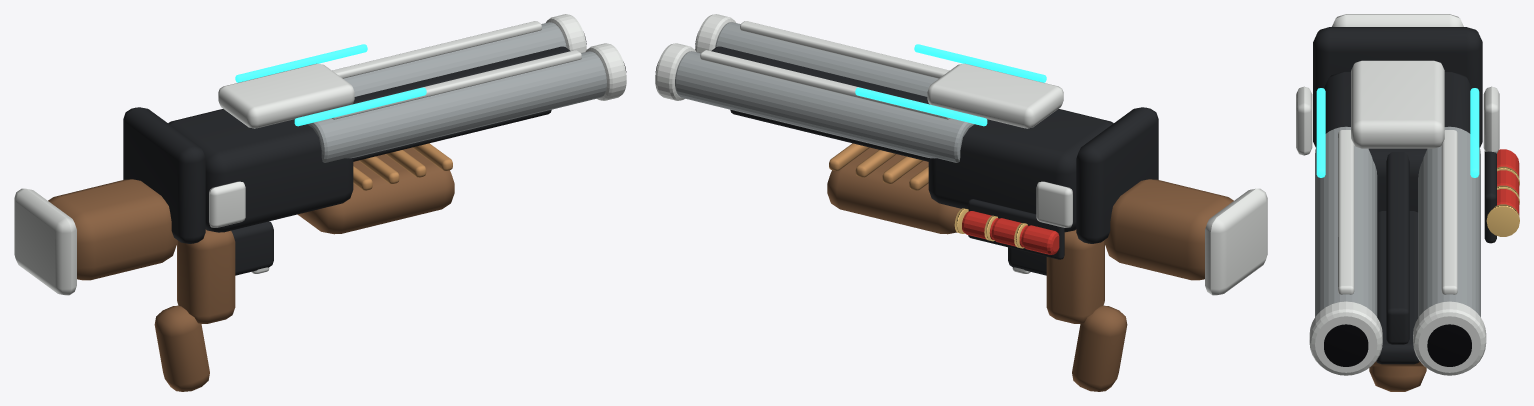
Rendered from lg_duel_shotgun_sg.fbx.
The picture shows the model from 3 angles, left to right: view 1: azimuth 30°, elevation 25°; view 2: azimuth 150°, elevation 25°; view 3: azimuth 270°, elevation 25°; orthographic projection. The views are drawn at different scales.
Parts seen in each view (by area): view 1: left_long_barrel_outer_tube, receiver_heavy_beveled_block, short_rear_stock_stub, rear_dark_breech_face, wide_walnut_foregrip, top_locking_rib, rear_butt_plate_metal, angled_dark_walnut_pistol_grip_upper, right_long_barrel_outer_tube, angled_dark_walnut_pistol_grip_lower, right_flat_top_highlight_strip, left_flat_top_highlight_strip (+11 smaller); view 2: right_long_barrel_outer_tube, receiver_heavy_beveled_block, short_rear_stock_stub, rear_dark_breech_face, top_locking_rib, wide_walnut_foregrip, rear_butt_plate_metal, left_long_barrel_outer_tube, angled_dark_walnut_pistol_grip_upper, angled_dark_walnut_pistol_grip_lower, left_flat_top_highlight_strip, right_flat_top_highlight_strip (+15 smaller); view 3: top_locking_rib, right_long_barrel_outer_tube, left_long_barrel_outer_tube, rear_dark_breech_face, center_barrel_spacer_dark_spine, receiver_heavy_beveled_block, underbarrel_shadow_rib, right_bright_muzzle_lip, left_bright_muzzle_lip, right_flat_top_highlight_strip, left_flat_top_highlight_strip, rear_butt_plate_metal (+12 smaller).
Boxes of the visible parts, left/top/right/bottom form: left_long_barrel_outer_tube: left=307, top=51, right=606, bottom=162; receiver_heavy_beveled_block: left=168, top=109, right=353, bottom=232; short_rear_stock_stub: left=48, top=179, right=177, bottom=280; rear_dark_breech_face: left=123, top=107, right=205, bottom=243; wide_walnut_foregrip: left=297, top=147, right=454, bottom=234; top_locking_rib: left=218, top=63, right=354, bottom=128; rear_butt_plate_metal: left=14, top=188, right=76, bottom=295; angled_dark_walnut_pistol_grip_upper: left=177, top=229, right=235, bottom=323; right_long_barrel_outer_tube: left=343, top=22, right=566, bottom=96; angled_dark_walnut_pistol_grip_lower: left=154, top=305, right=209, bottom=391; right_flat_top_highlight_strip: left=332, top=21, right=541, bottom=78; left_flat_top_highlight_strip: left=330, top=50, right=581, bottom=119; right_long_barrel_outer_tube: left=675, top=51, right=974, bottom=162; receiver_heavy_beveled_block: left=928, top=109, right=1113, bottom=232; short_rear_stock_stub: left=1104, top=179, right=1233, bottom=280; rear_dark_breech_face: left=1076, top=107, right=1158, bottom=243; top_locking_rib: left=927, top=63, right=1063, bottom=128; wide_walnut_foregrip: left=827, top=147, right=960, bottom=234; rear_butt_plate_metal: left=1205, top=188, right=1267, bottom=295; left_long_barrel_outer_tube: left=715, top=22, right=938, bottom=96; angled_dark_walnut_pistol_grip_upper: left=1046, top=229, right=1104, bottom=323; angled_dark_walnut_pistol_grip_lower: left=1072, top=305, right=1127, bottom=391; left_flat_top_highlight_strip: left=740, top=21, right=949, bottom=78; right_flat_top_highlight_strip: left=700, top=50, right=951, bottom=119; top_locking_rib: left=1351, top=60, right=1444, bottom=148; right_long_barrel_outer_tube: left=1418, top=126, right=1480, bottom=317; left_long_barrel_outer_tube: left=1315, top=126, right=1377, bottom=316; rear_dark_breech_face: left=1313, top=27, right=1482, bottom=147; center_barrel_spacer_dark_spine: left=1386, top=152, right=1409, bottom=344; receiver_heavy_beveled_block: left=1324, top=71, right=1471, bottom=212; underbarrel_shadow_rib: left=1376, top=211, right=1419, bottom=364; right_bright_muzzle_lip: left=1413, top=301, right=1486, bottom=375; left_bright_muzzle_lip: left=1309, top=301, right=1382, bottom=375; right_flat_top_highlight_strip: left=1441, top=130, right=1457, bottom=294; left_flat_top_highlight_strip: left=1338, top=130, right=1354, bottom=294; rear_butt_plate_metal: left=1332, top=14, right=1463, bottom=26.
Bounding box in the file's own units: 94.65 × 44.8 × 25.05.
